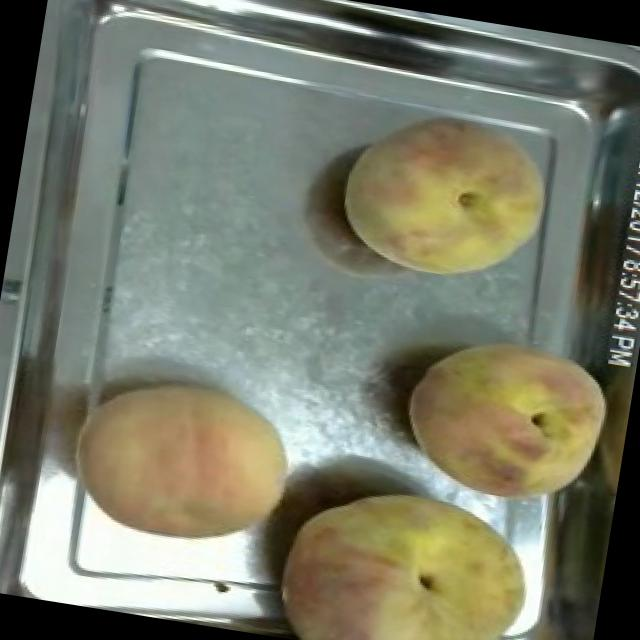Fruit: (258, 458, 565, 640), (58, 356, 311, 567), (382, 314, 630, 528), (326, 90, 564, 300)
